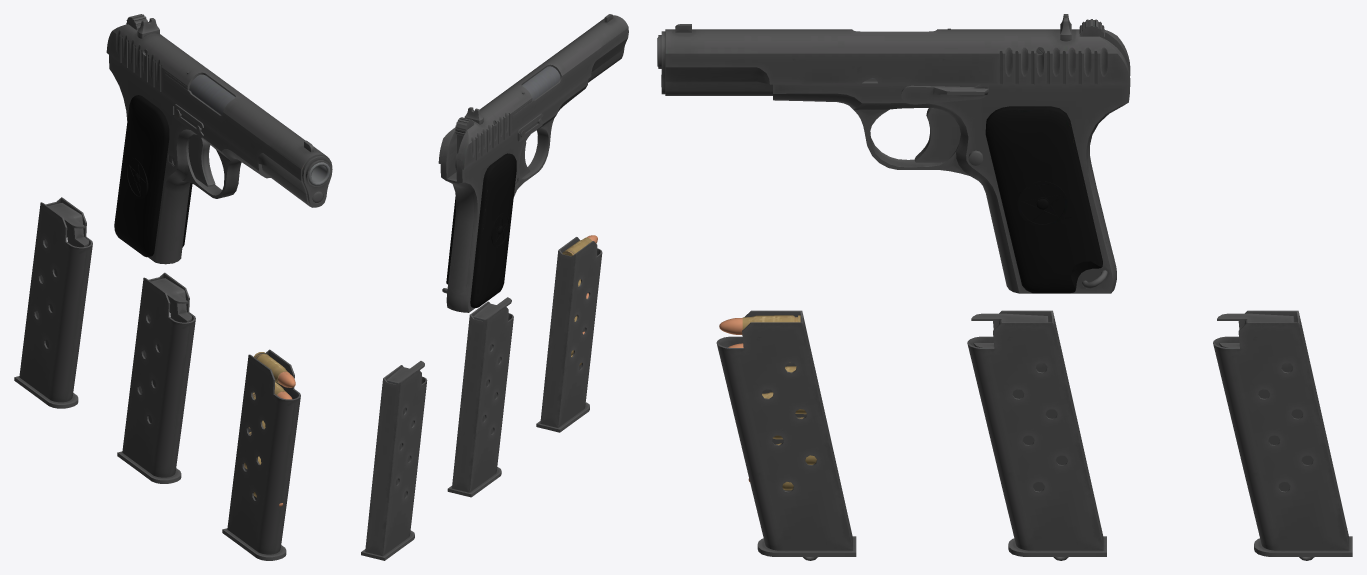
3 views of the same model, side by side, from view 1: azimuth 30°, elevation 25°; view 2: azimuth 150°, elevation 25°; view 3: azimuth 270°, elevation 25° (orthographic). The views are drawn at different scales.
Visible parts, largest first — view 1: Object_2, Object_3; view 2: Object_2, Object_3; view 3: Object_2, Object_3.
Part boxes in pixels (x1,y1,x2,y2): Object_2: (14, 14, 330, 560); Object_3: (106, 18, 332, 207); Object_2: (361, 66, 602, 560); Object_3: (438, 14, 628, 177); Object_2: (657, 19, 1352, 560); Object_3: (658, 14, 1130, 162).
Size of the model in its own units: 0.0275 by 0.2532 by 0.2933.
1 material, 1 textured.
